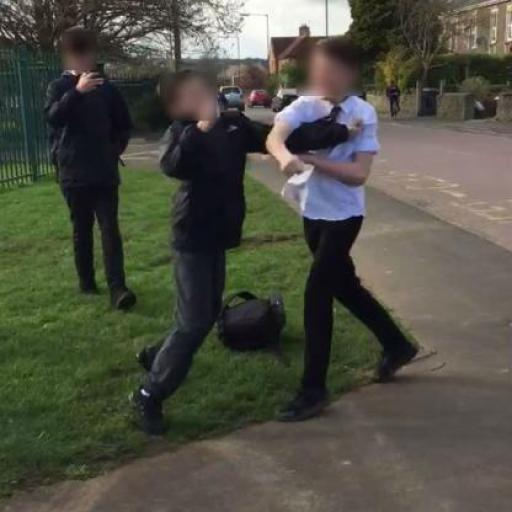Fighting: (41, 21, 422, 427)
